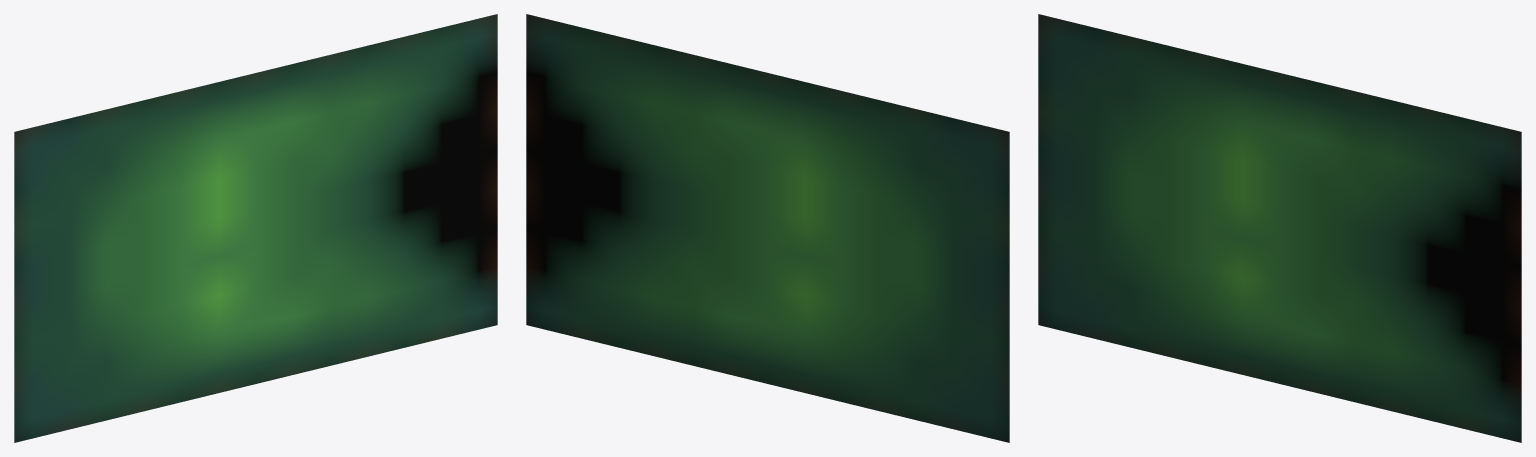
Rendered from exit_level_flag.fbx.
3 renders of one model, left to right at view 1: azimuth 30°, elevation 25°; view 2: azimuth 150°, elevation 25°; view 3: azimuth 330°, elevation 25°, orthographic.
Parts seen in each view (by area): view 1: Plane; view 2: Plane; view 3: Plane.
Part boxes in pixels (x1,y1,x2,y2): Plane: (14,14,497,442); Plane: (526,14,1009,442); Plane: (1038,14,1521,442).
Size of the model in its own units: 130 by 80 by 1.51e-05.
